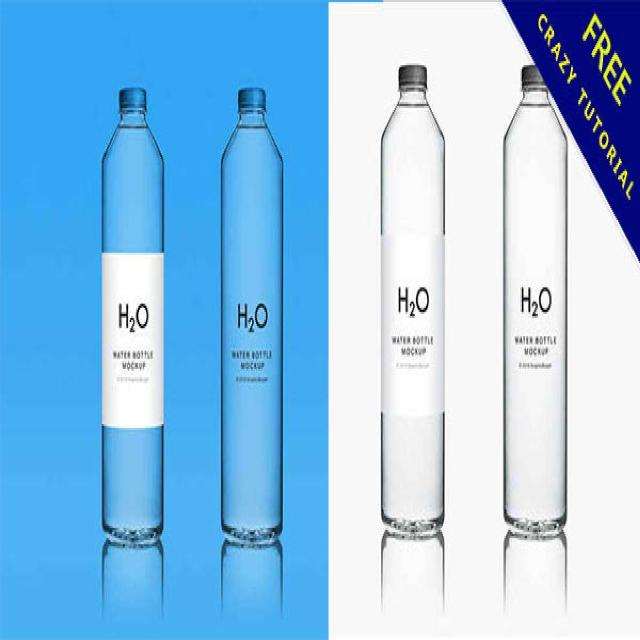bottle: (92, 78, 176, 550), (374, 56, 446, 548), (500, 56, 570, 544), (216, 79, 286, 552)
